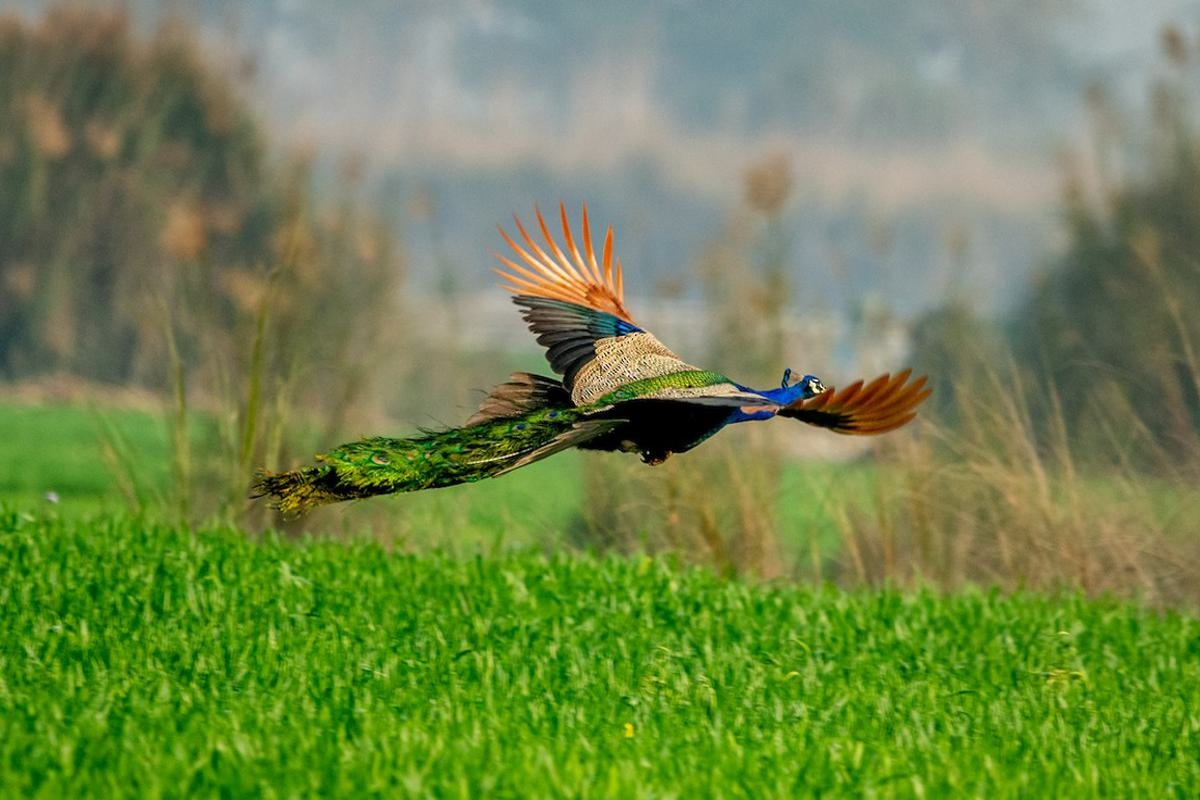peacock: (248, 212, 944, 517)
